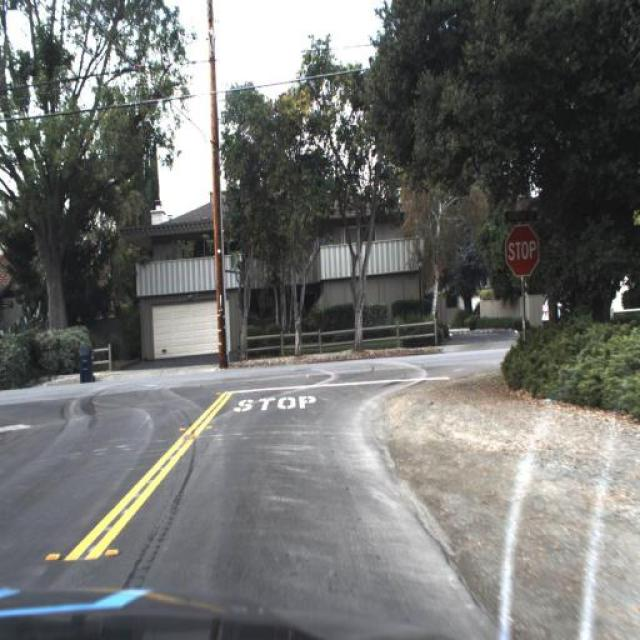car: (537, 293, 564, 332), (540, 294, 566, 324)
